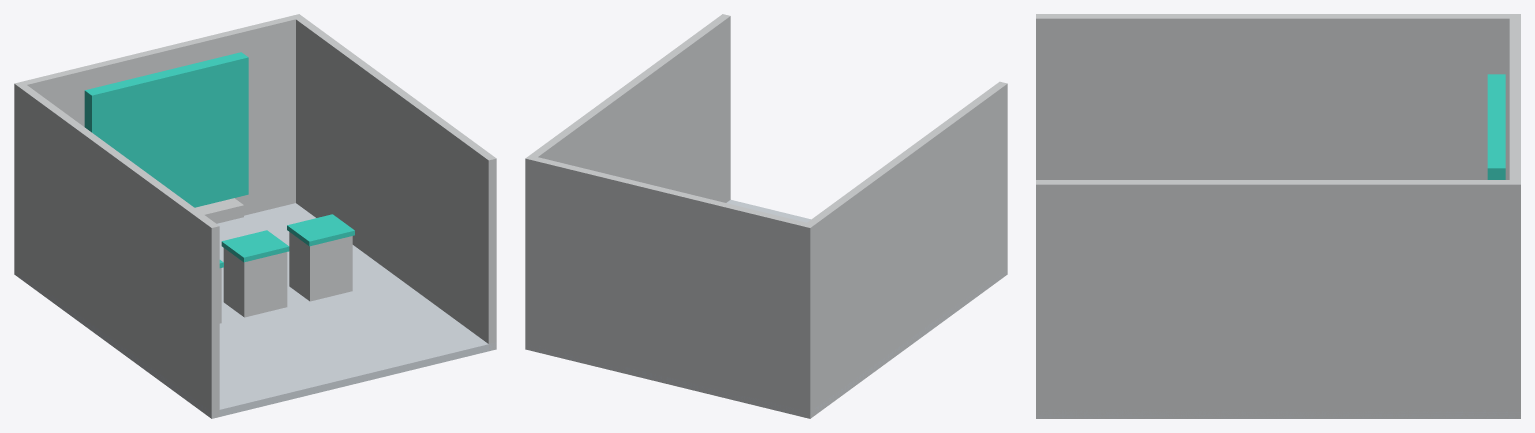
The picture shows the model from 3 angles, left to right: view 1: azimuth 30°, elevation 25°; view 2: azimuth 150°, elevation 25°; view 3: azimuth 270°, elevation 25°; orthographic projection. The views are drawn at different scales.
Visible parts, largest first — view 1: Exhibition Booth Concept; view 2: Exhibition Booth Concept; view 3: Exhibition Booth Concept.
Boxes of the visible parts, box(x1,y1,x2,y2) form: Exhibition Booth Concept: box(14, 14, 496, 418); Exhibition Booth Concept: box(525, 14, 1007, 418); Exhibition Booth Concept: box(1036, 14, 1520, 418).
Size of the model in its own units: 5 by 3.2 by 6.
